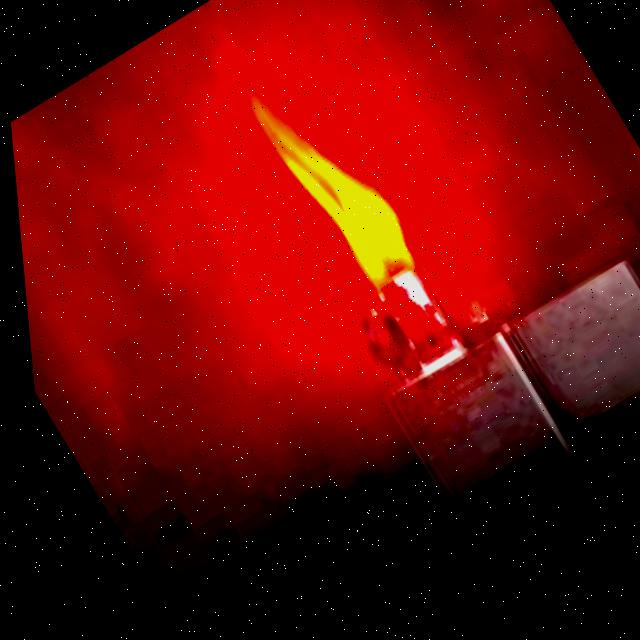Fire: (230, 48, 422, 306)
